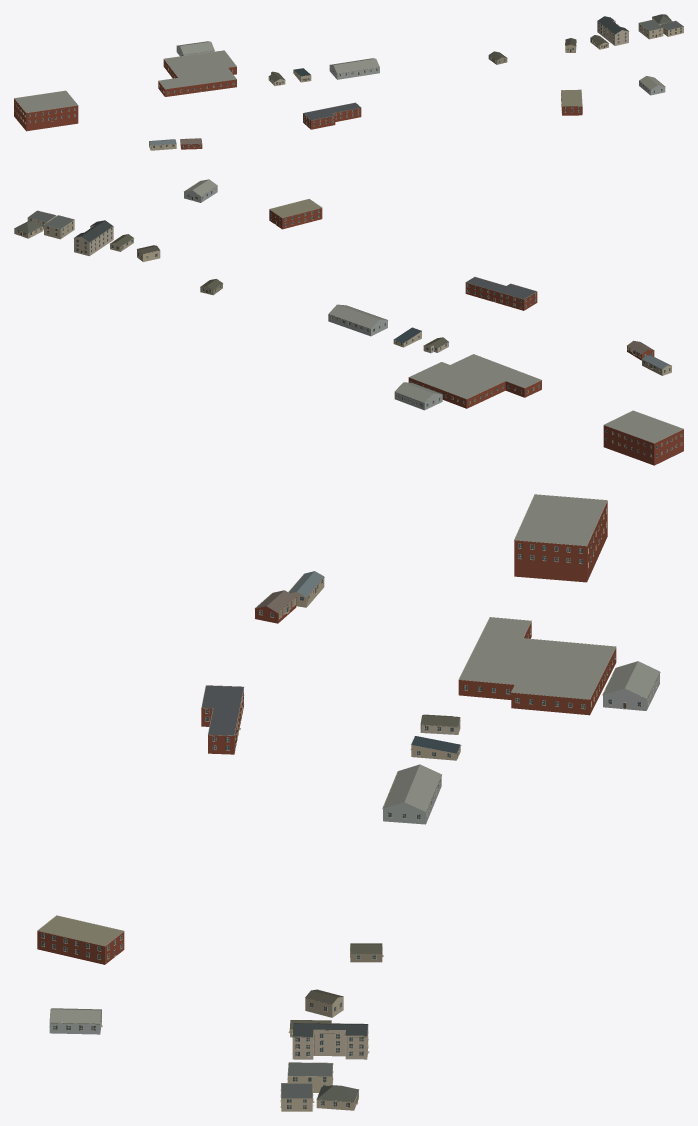
3 renders of one model, top to bottom at view 1: azimuth 30°, elevation 25°; view 2: azimuth 150°, elevation 25°; view 3: azimuth 270°, elevation 25°, orthographic. The views are drawn at different scales.
Parts seen in each view (by area): view 1: 3_1_326848166_0, 3_1_599471683_5, 3_1_599472695_8, 3_1_632644733_42; view 2: 3_1_326848166_0, 3_1_599471683_5, 3_1_599472695_8, 3_1_632644733_42; view 3: 3_1_326848166_0, 3_1_599471683_5, 3_1_599472695_8, 3_1_632644733_42.
Part boxes in pixels (x1,y1,x2,y2): 3_1_326848166_0: [14, 14, 683, 149]; 3_1_599471683_5: [149, 17, 683, 150]; 3_1_599472695_8: [176, 46, 665, 95]; 3_1_632644733_42: [268, 21, 628, 85]; 3_1_326848166_0: [14, 179, 683, 465]; 3_1_599471683_5: [14, 216, 671, 375]; 3_1_599472695_8: [184, 186, 442, 410]; 3_1_632644733_42: [74, 225, 448, 353]; 3_1_326848166_0: [37, 494, 660, 1108]; 3_1_599471683_5: [281, 577, 460, 1111]; 3_1_599472695_8: [49, 672, 659, 1034]; 3_1_632644733_42: [292, 717, 460, 1059].
Size of the model in its own units: 493 by 20.59 by 224.
